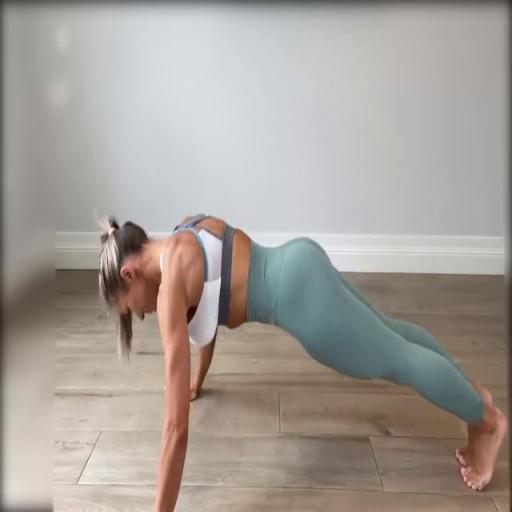Normal_Dips: (1, 194, 512, 512)
